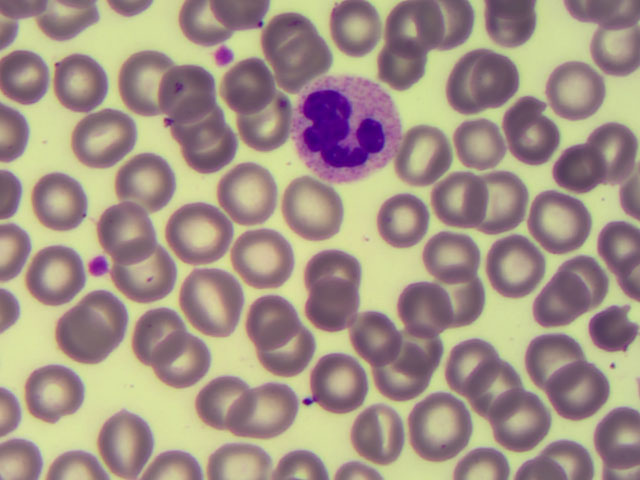Platelets: (83, 254, 110, 283), (208, 46, 239, 68)
RBC: (50, 51, 106, 111), (75, 102, 131, 162), (118, 152, 174, 212), (109, 49, 165, 109), (147, 55, 203, 115), (170, 95, 226, 155), (181, 118, 237, 178), (213, 57, 269, 117), (235, 79, 291, 139), (270, 31, 326, 91), (261, 6, 317, 66), (325, 3, 381, 63), (373, 32, 429, 92), (388, 1, 444, 61), (434, 52, 490, 112), (463, 49, 519, 109), (504, 100, 560, 160), (549, 65, 605, 125), (450, 110, 506, 170), (394, 122, 450, 182), (430, 170, 486, 230), (481, 171, 537, 231), (531, 194, 587, 254), (550, 140, 606, 200), (584, 113, 640, 173), (584, 229, 640, 289), (561, 250, 617, 310), (533, 272, 589, 332), (482, 236, 538, 296), (418, 219, 474, 279), (430, 257, 486, 317), (395, 285, 451, 345), (374, 196, 430, 256), (299, 237, 355, 297), (307, 270, 363, 330), (291, 187, 347, 247), (224, 166, 280, 226), (236, 226, 292, 286), (166, 201, 222, 261), (188, 267, 244, 327), (235, 282, 291, 342), (257, 327, 313, 387), (234, 389, 290, 449), (193, 371, 249, 431), (151, 326, 207, 386), (124, 305, 180, 365), (123, 249, 179, 309), (90, 195, 146, 255), (38, 171, 94, 231), (33, 247, 89, 307), (56, 309, 112, 369), (75, 285, 131, 345), (35, 360, 91, 420), (96, 418, 152, 478), (343, 411, 399, 471), (314, 355, 370, 415), (339, 298, 395, 358), (364, 336, 420, 396), (381, 315, 437, 375), (450, 330, 506, 390), (465, 367, 521, 427), (504, 390, 560, 450), (555, 365, 611, 425), (528, 331, 584, 391), (584, 412, 640, 472), (407, 392, 463, 452)
WBC: (290, 70, 408, 187)
